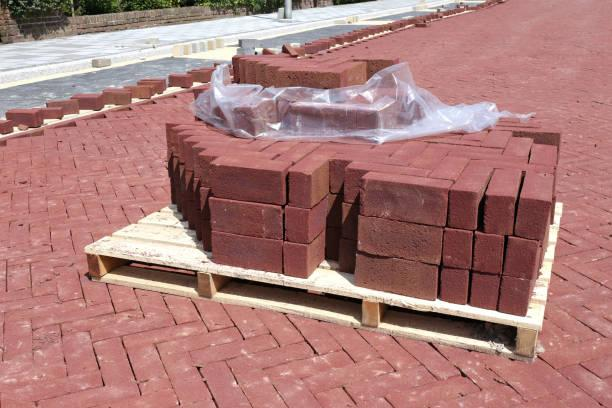Bricks: (358, 215, 444, 266), (359, 179, 448, 227), (353, 253, 435, 300), (210, 163, 283, 207), (210, 197, 283, 240), (211, 230, 283, 273), (283, 231, 326, 279), (285, 198, 328, 245), (288, 160, 329, 209), (360, 170, 455, 191), (469, 154, 555, 176), (514, 197, 552, 242), (503, 236, 540, 282), (212, 153, 295, 172), (471, 232, 503, 276), (450, 164, 495, 194), (447, 189, 479, 231), (345, 160, 434, 175), (468, 271, 501, 311), (440, 228, 472, 269), (483, 196, 515, 235), (498, 277, 530, 316), (281, 68, 343, 88), (275, 139, 321, 165), (170, 123, 213, 150), (521, 169, 555, 203), (431, 153, 472, 181), (386, 139, 428, 166), (439, 267, 468, 305), (485, 167, 523, 196), (415, 143, 451, 172), (287, 153, 336, 174), (436, 142, 503, 154), (198, 149, 277, 159), (194, 139, 265, 150), (341, 202, 360, 241), (180, 127, 236, 138), (344, 169, 361, 204), (187, 135, 253, 144), (318, 142, 376, 152), (183, 139, 199, 172), (341, 63, 366, 84), (533, 141, 556, 163), (201, 158, 218, 185), (193, 148, 206, 179), (329, 160, 341, 192), (488, 129, 507, 149), (178, 134, 191, 163), (507, 135, 529, 152), (327, 194, 337, 225), (253, 64, 267, 84), (266, 66, 280, 86), (200, 188, 207, 217), (328, 228, 335, 255), (246, 62, 254, 83)
